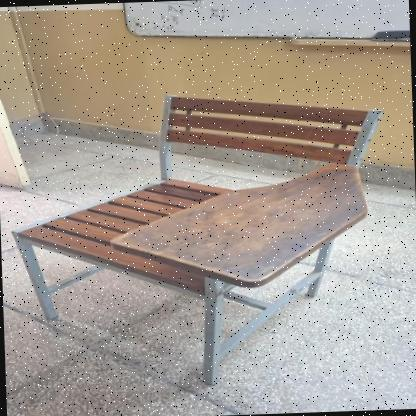chair: (0, 80, 394, 399)
